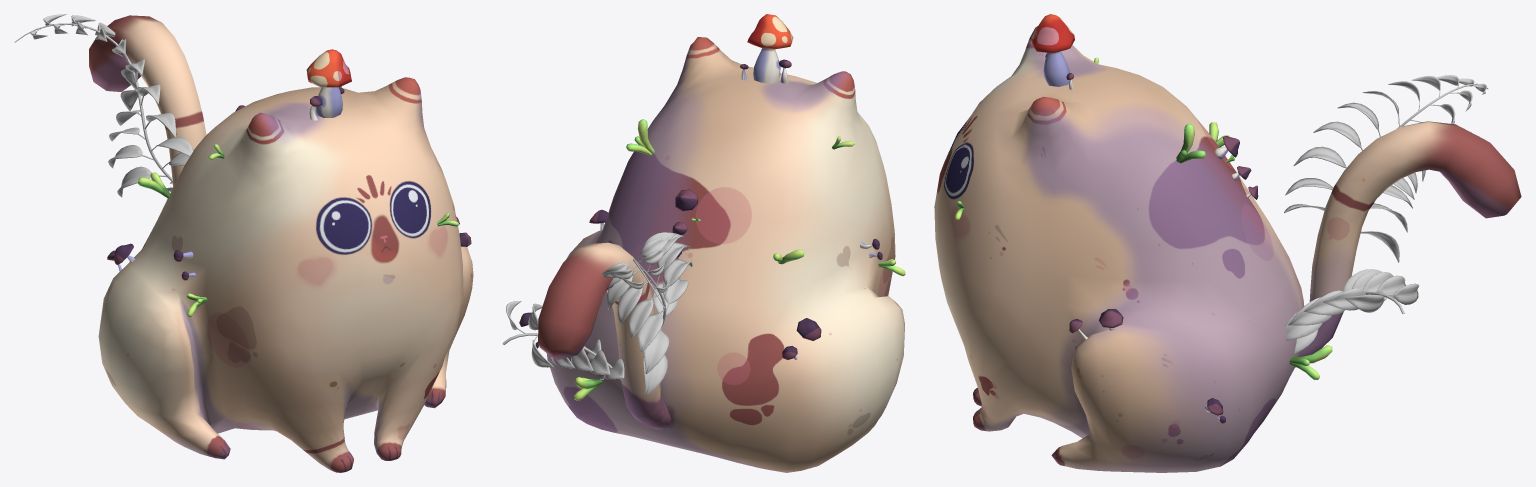
File: All.fbx
3 renders of one model, left to right at view 1: azimuth 30°, elevation 25°; view 2: azimuth 150°, elevation 25°; view 3: azimuth 270°, elevation 25°, orthographic. The views are drawn at different scales.
Visible parts, largest first — view 1: Body, Leaves, Mashroom, Grass; view 2: Body, Leaves, Mashroom, Grass; view 3: Body, Leaves, Mashroom, Grass.
Boxes of the visible parts, x1,y1,x2,y2 form: Body: (89,15,473,472); Leaves: (14,14,194,197); Mashroom: (107,49,471,280); Grass: (138,86,458,317); Body: (538,37,904,472); Leaves: (502,232,692,396); Mashroom: (519,14,882,359); Grass: (574,119,905,400); Body: (934,26,1521,472); Leaves: (1284,75,1488,354); Mashroom: (1031,14,1258,423); Grass: (955,57,1332,380).
Bounding box in the file's own units: 622 × 672 × 888.
